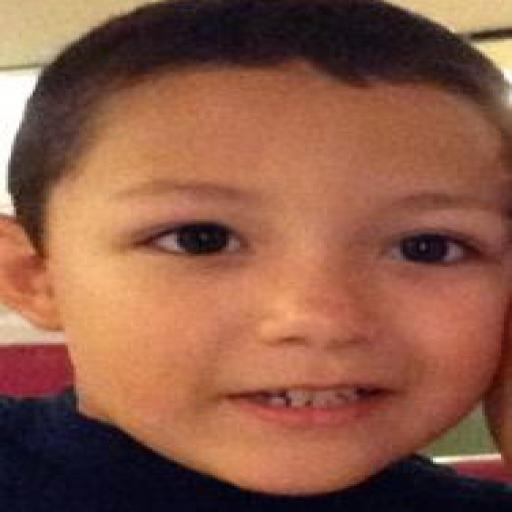Autism: (27, 28, 512, 512)
